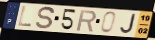0: (99, 10, 119, 34)
5: (60, 8, 77, 31)
J: (120, 14, 137, 35)
L: (17, 6, 32, 28)
R: (75, 9, 98, 33)
S: (35, 6, 56, 30)
